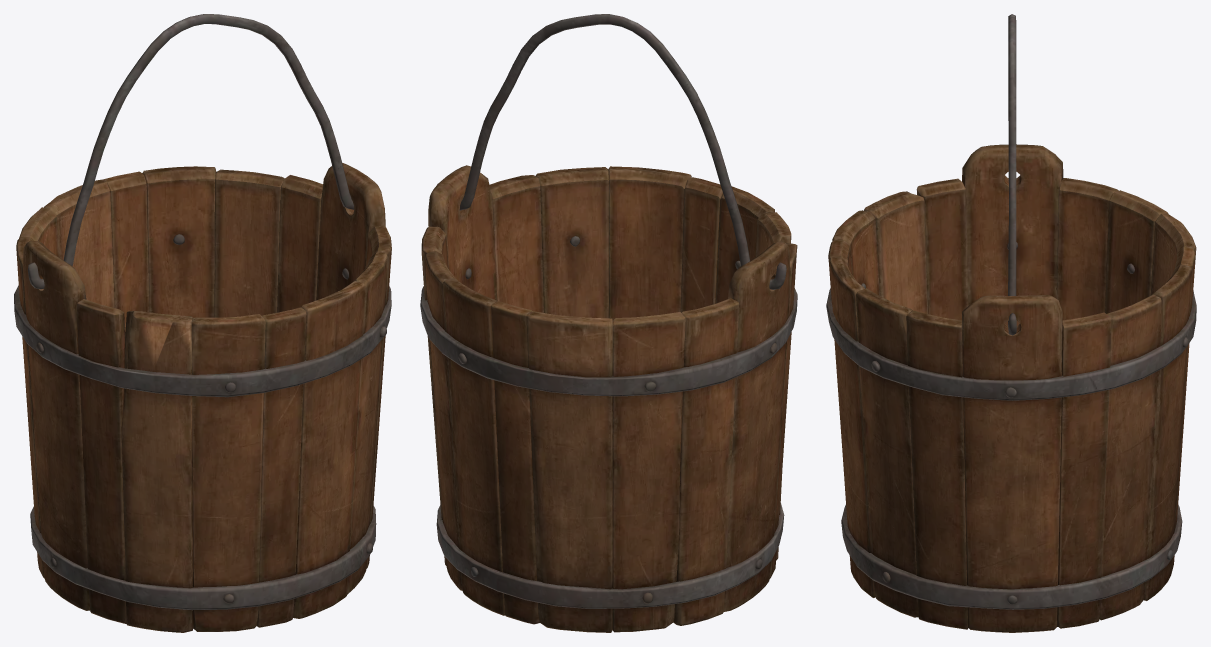
Rendered from wooden_bucket_01.glb.
3 renders of one model, left to right at view 1: azimuth 30°, elevation 25°; view 2: azimuth 150°, elevation 25°; view 3: azimuth 270°, elevation 25°, orthographic.
Parts seen in each view (by area): view 1: wooden_bucket_01; view 2: wooden_bucket_01; view 3: wooden_bucket_01.
Part boxes in pixels (<box>): wooden_bucket_01: <box>14,14,391,632</box>; wooden_bucket_01: <box>420,14,797,632</box>; wooden_bucket_01: <box>826,14,1196,632</box>.
Bounding box in the file's own units: 0.367 × 0.5499 × 0.3422.
1 material, 1 textured.
